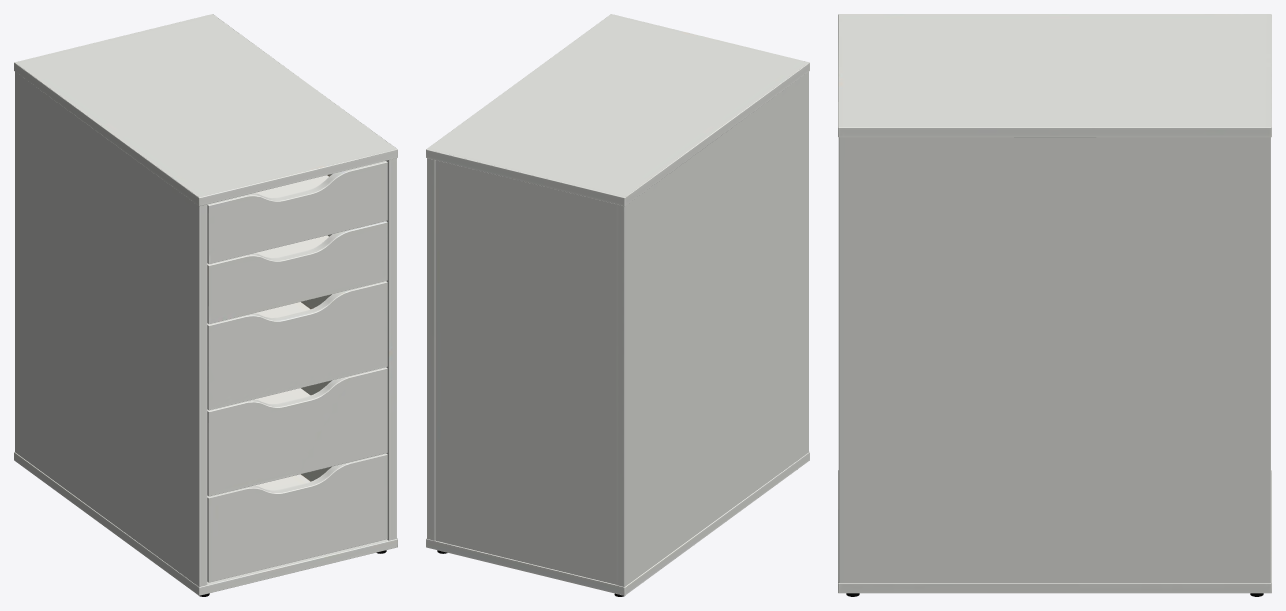
File: alex_komoda_00473546.glb
3 renders of one model, left to right at view 1: azimuth 30°, elevation 25°; view 2: azimuth 150°, elevation 25°; view 3: azimuth 270°, elevation 25°, orthographic. The views are drawn at different scales.
Parts seen in each view (by area): view 1: alex_komoda_00473546; view 2: alex_komoda_00473546; view 3: alex_komoda_00473546.
Boxes of the visible parts, x1,y1,x2,y2 form: alex_komoda_00473546: [14, 14, 397, 596]; alex_komoda_00473546: [426, 14, 809, 596]; alex_komoda_00473546: [838, 14, 1271, 596].
Bounding box in the file's own units: 0.361 × 0.7001 × 0.5821.
1 material, 1 textured.
